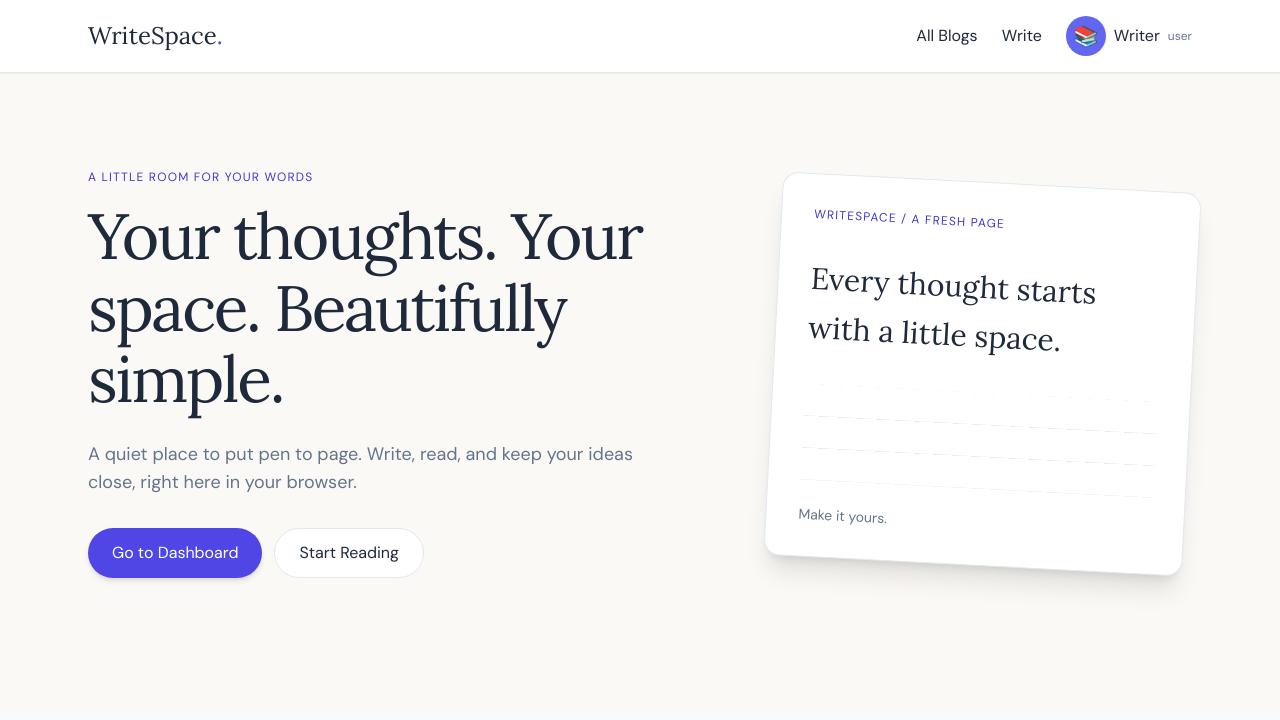
Scenario: restores session on remount and logout preserves accounts
Expected: the text "Writer" is shown, [1114,24,1160,48]
Click the button "📚 Writer user" at (1129,36), box [1066,16,1192,56]
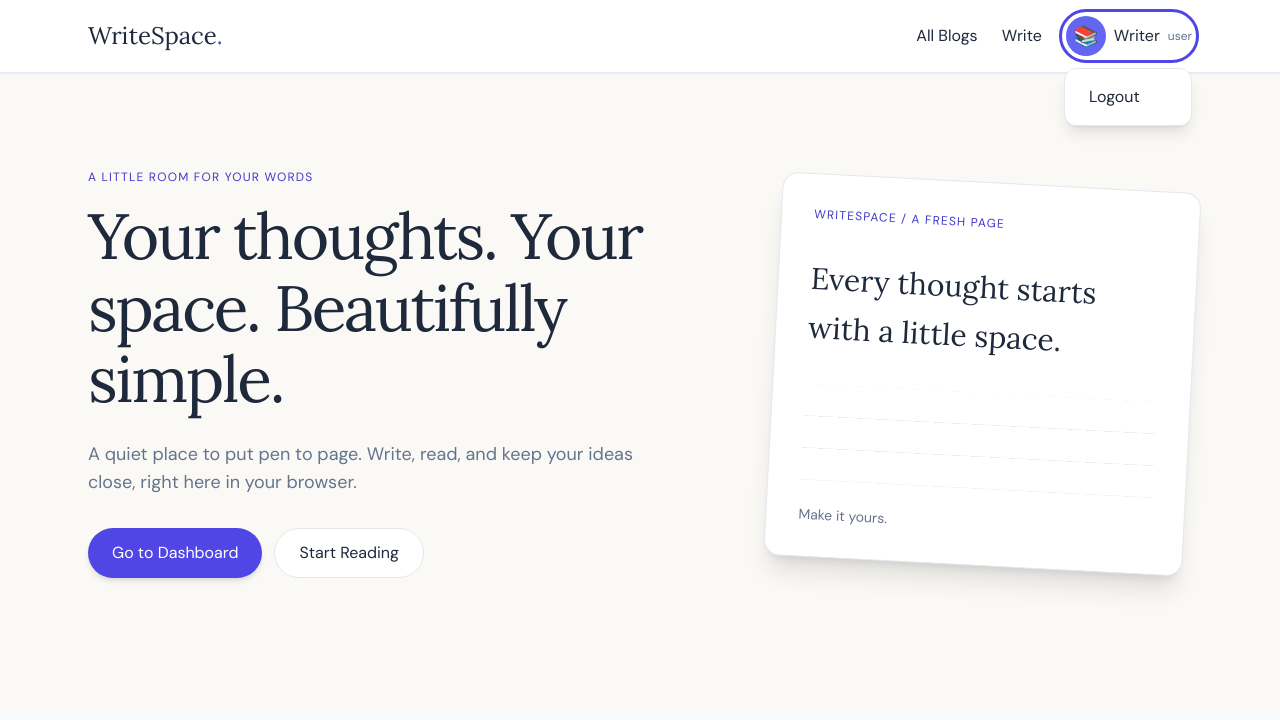
Click the button "Logout" at (1128,97), box [1073,77,1183,117]
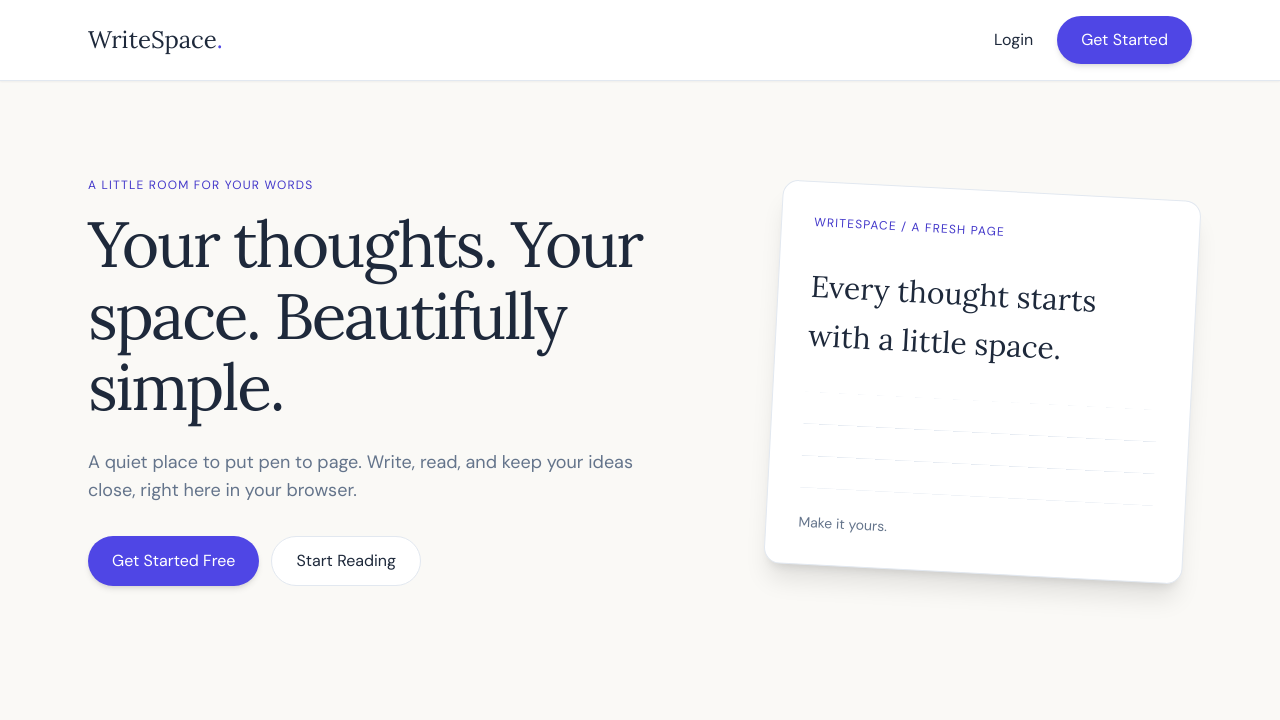
Now the link "Get Started Free" is shown, box [88,536,259,586]
